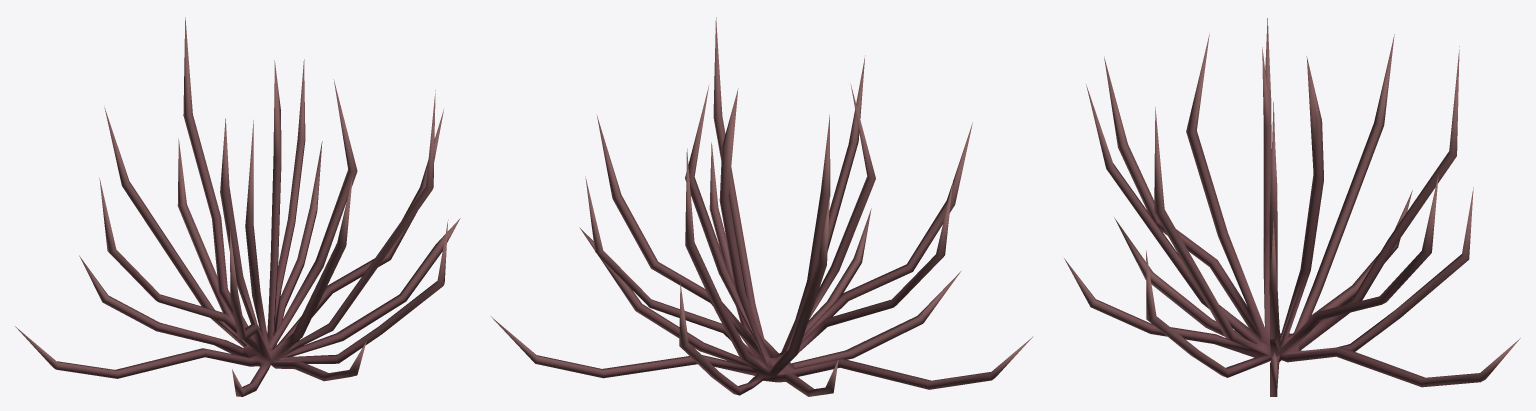
The model's file is low-poly_thumbleweed.glb.
The picture shows the model from 3 angles, left to right: view 1: azimuth 30°, elevation 25°; view 2: azimuth 150°, elevation 25°; view 3: azimuth 270°, elevation 25°; orthographic projection. The views are drawn at different scales.
Visible parts, largest first — view 1: Thumbleweed.000; view 2: Thumbleweed.000; view 3: Thumbleweed.000.
Part boxes in pixels (bbox=[...]): Thumbleweed.000: bbox=[15, 17, 460, 396]; Thumbleweed.000: bbox=[490, 17, 1033, 396]; Thumbleweed.000: bbox=[1064, 18, 1520, 396].
Size of the model in its own units: 5.82 by 3.6 by 4.73.
Materials: 1 (1 with a texture image).
